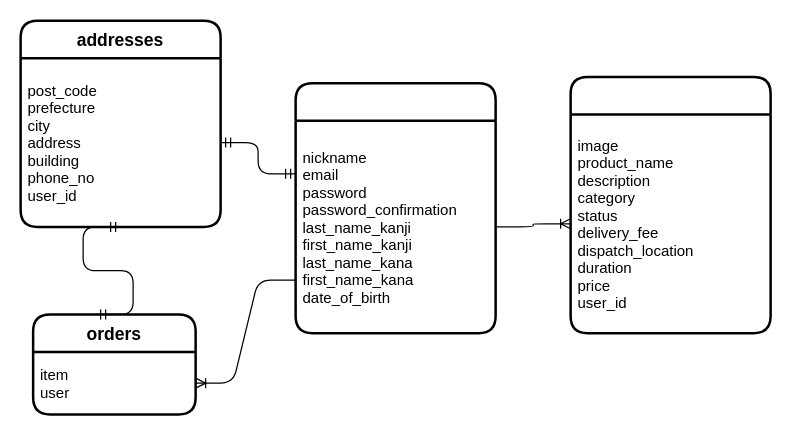
The diagram is 791 pixels wide and 435 high, and some of its shapes have lost their labels. Each missing label, with the box of its shape:
items: (569, 75, 771, 334)
users: (294, 81, 496, 334)
